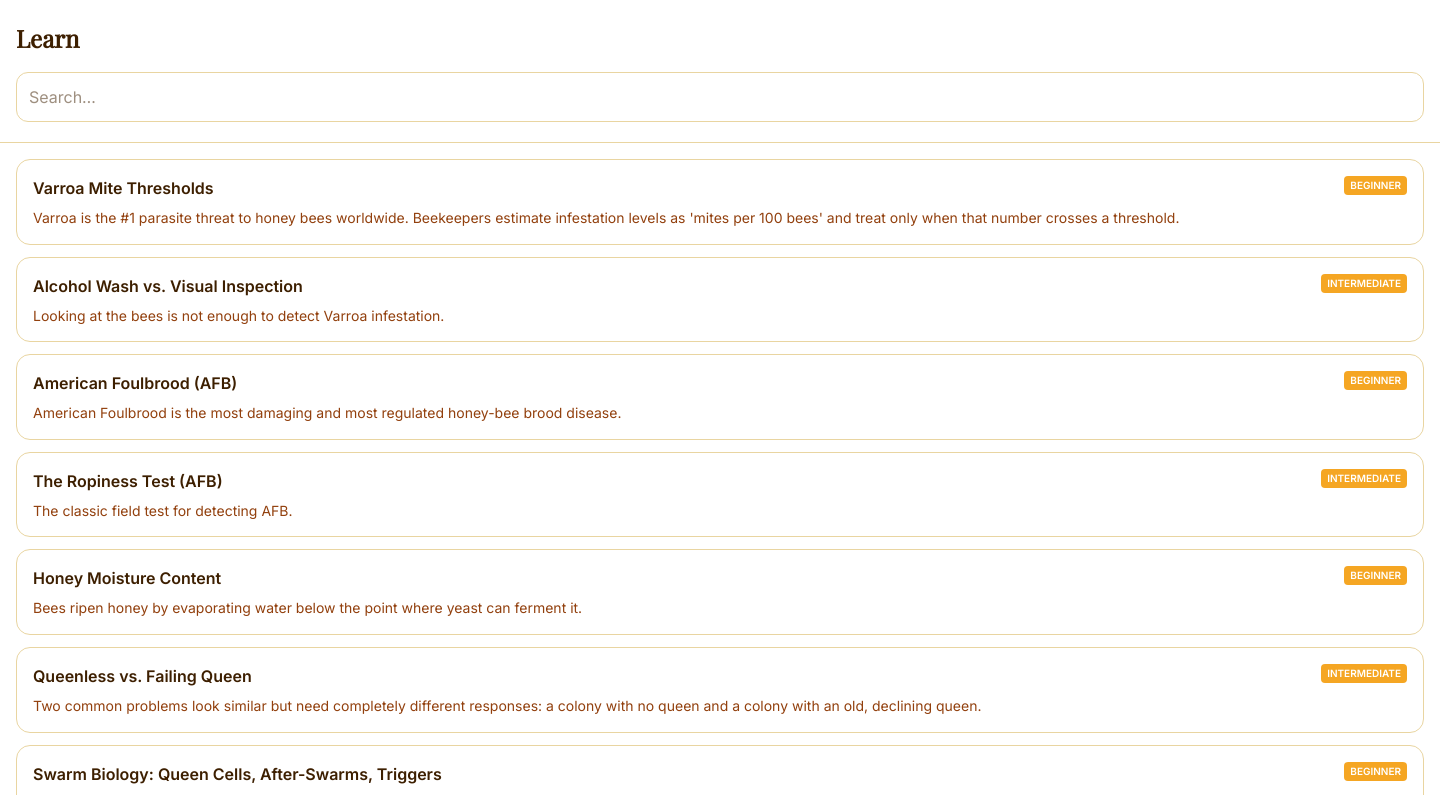
Test case: LearnScreen › opens a detail modal with the translated source label
This screenshot has width=1440, height=795.
Click the heading "Varroa Mite Thresholds": click(123, 188) 33,176 -> 214,200
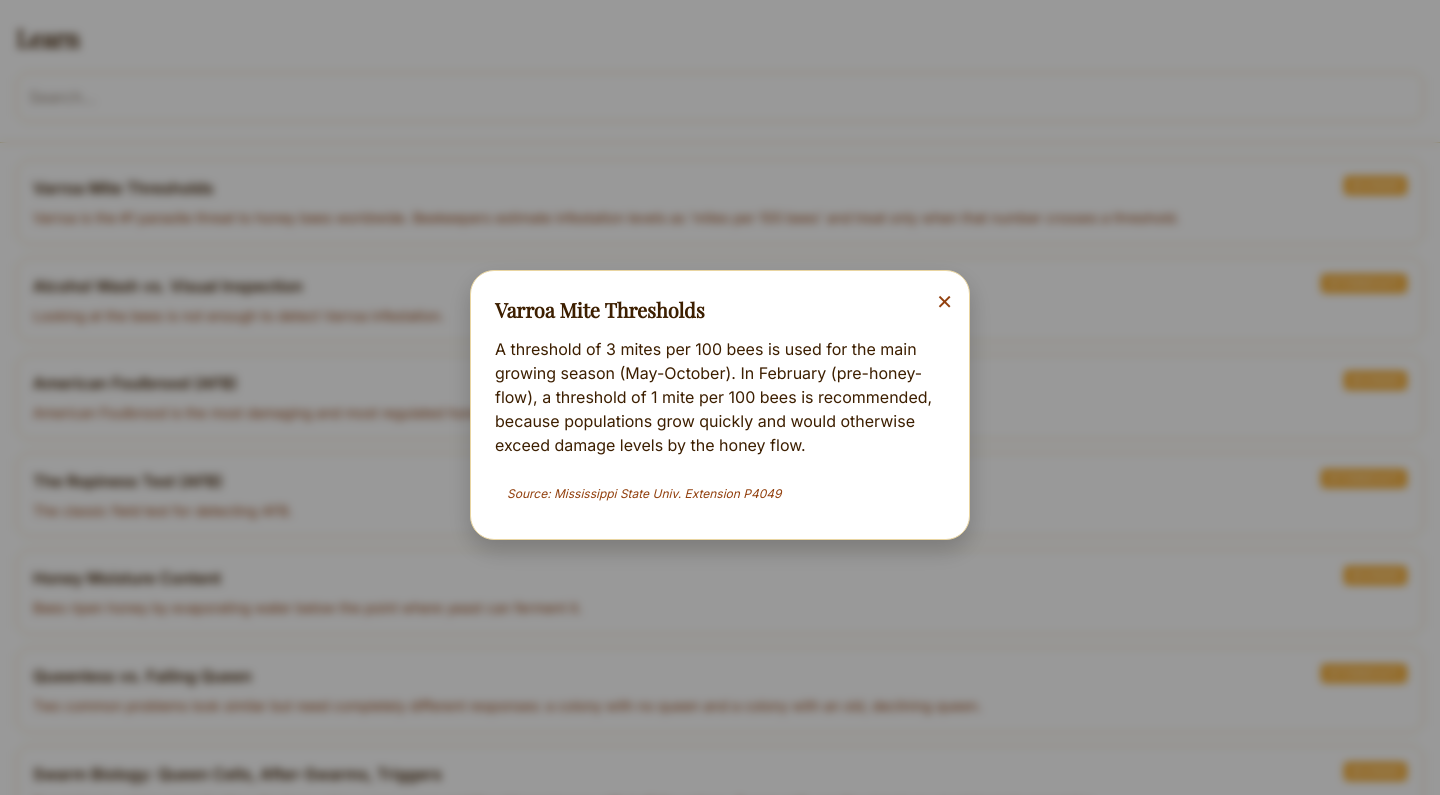
Now the text "Source: Mississippi State Univ. Extension P4049" is shown, box 495,473 -> 945,515
